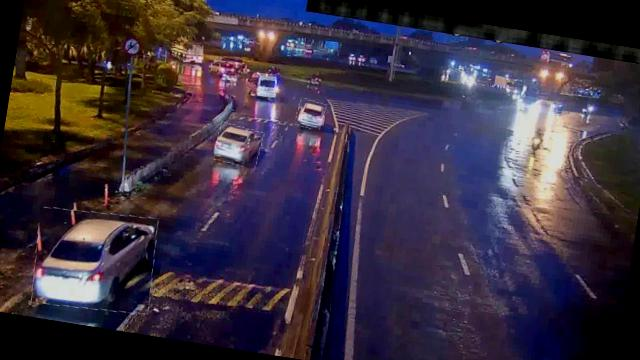Bike: (529, 131, 544, 154)
Car: (28, 202, 162, 318), (213, 122, 264, 168), (294, 98, 326, 130)
